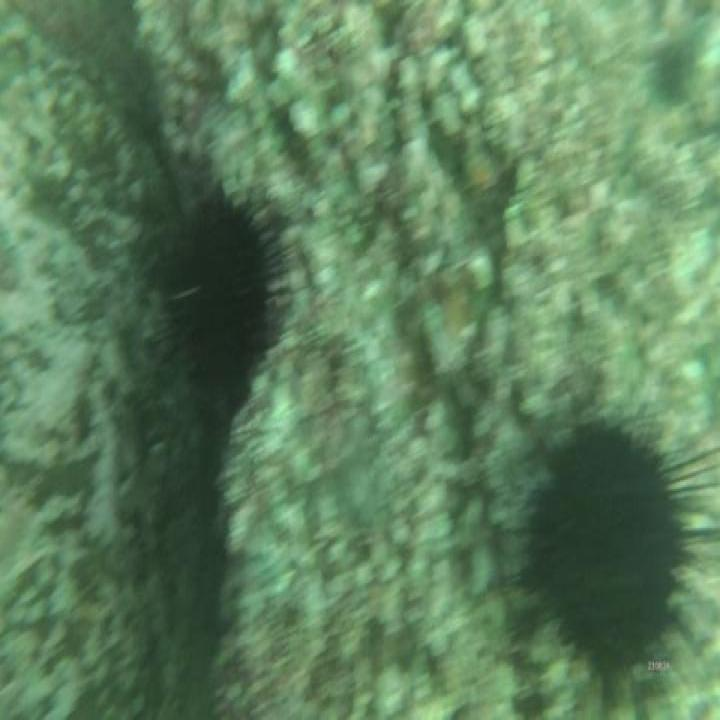echinus: (523, 410, 686, 682), (163, 182, 279, 420)
